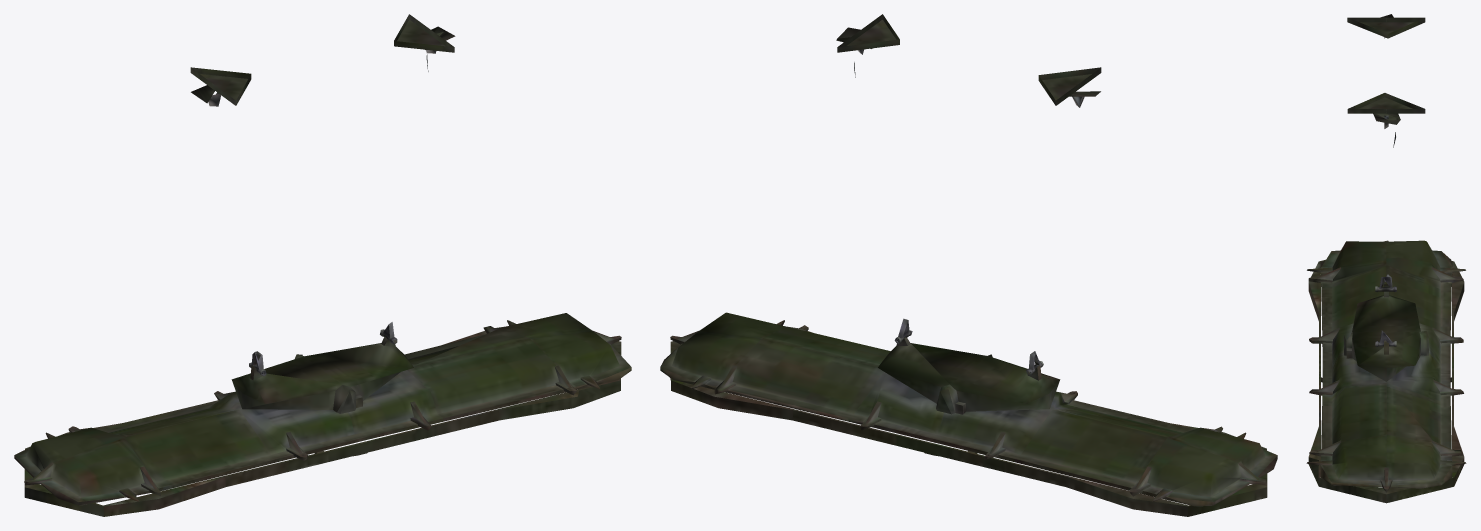
The model's file is lamp-caged-hanging.lite.3e030352.glb.
The picture shows the model from 3 angles, left to right: view 1: azimuth 30°, elevation 25°; view 2: azimuth 150°, elevation 25°; view 3: azimuth 270°, elevation 25°; orthographic projection. The views are drawn at different scales.
Parts seen in each view (by area): view 1: model; view 2: model; view 3: model.
Part boxes in pixels (box(x1,y1,x2,y2)): model: box(14, 14, 631, 516); model: box(660, 14, 1277, 516); model: box(1306, 14, 1466, 503).
Size of the model in its own units: 1.16 by 0.7501 by 0.3149.
Materials: 1 (1 with a texture image).
